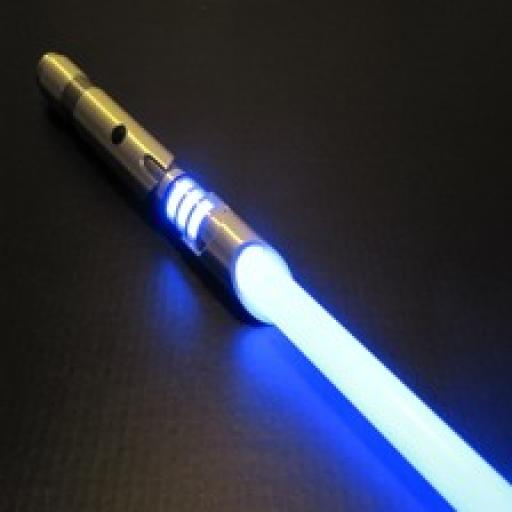lightsaber: (36, 48, 512, 512)
